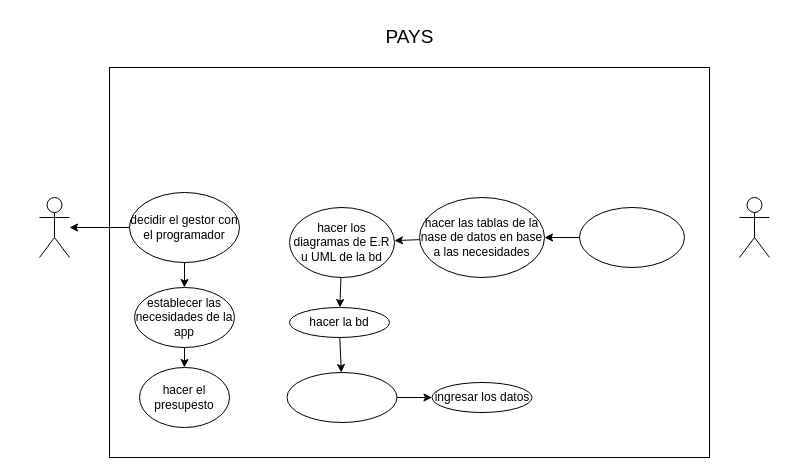
Some shapes in this 806 by 475 pixel diagram are drawn without their labels. The centre of each missing label's shape, as x and y in pixels:
"Administrador" belongs at (54,227).
"decidir el gestor jutno con el admin" belongs at (631,237).
"establecer permiso de la bd" belongs at (341,397).
"Programador" belongs at (754,227).
